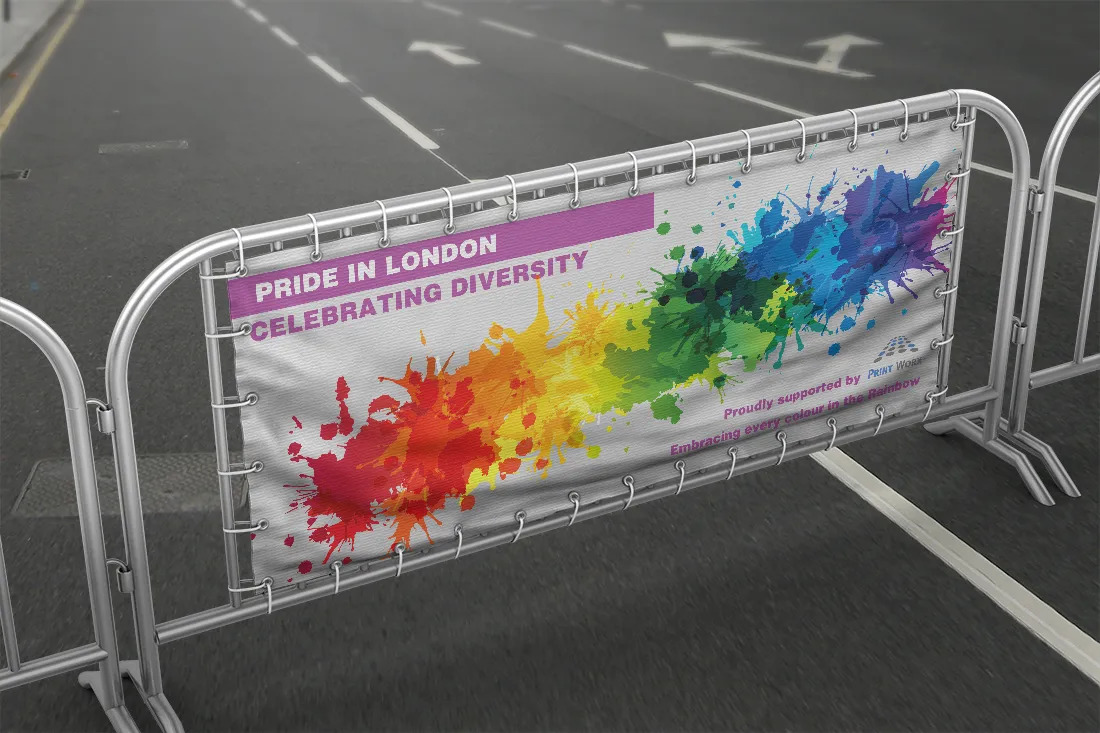vinyl banner: (222, 113, 1002, 592)
